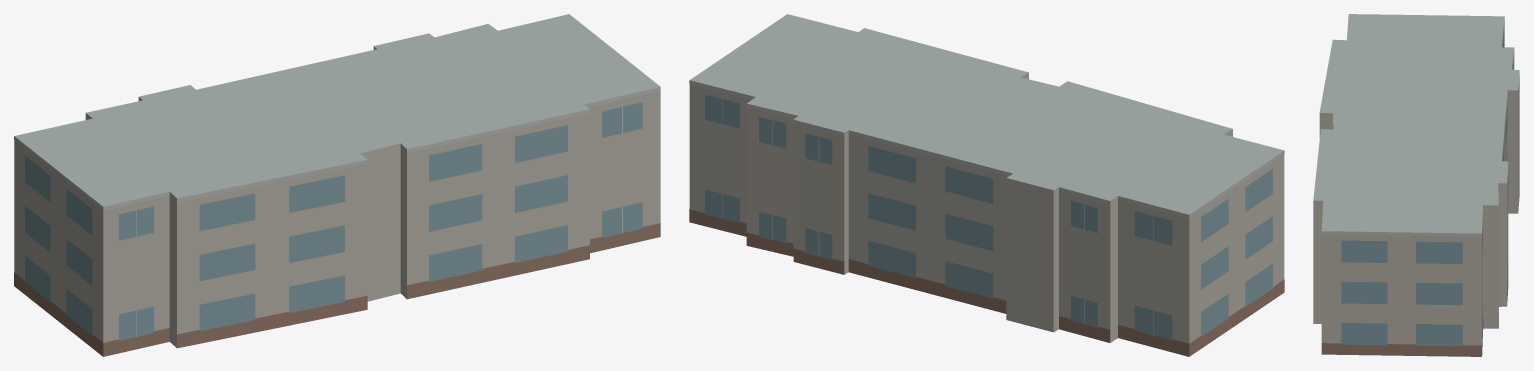
Rendered from survey-upis-32963570.glb.
The picture shows the model from 3 angles, left to right: view 1: azimuth 30°, elevation 25°; view 2: azimuth 150°, elevation 25°; view 3: azimuth 270°, elevation 25°; orthographic projection. The views are drawn at different scales.
Visible parts, largest first — view 1: survey-upis-32963570.tmp; view 2: survey-upis-32963570.tmp; view 3: survey-upis-32963570.tmp.
Boxes of the visible parts, x1,y1,x2,y2 form: survey-upis-32963570.tmp: [14, 14, 660, 356]; survey-upis-32963570.tmp: [689, 14, 1284, 356]; survey-upis-32963570.tmp: [1313, 14, 1519, 356].
Size of the model in its own units: 34.92 by 9.15 by 13.88.
